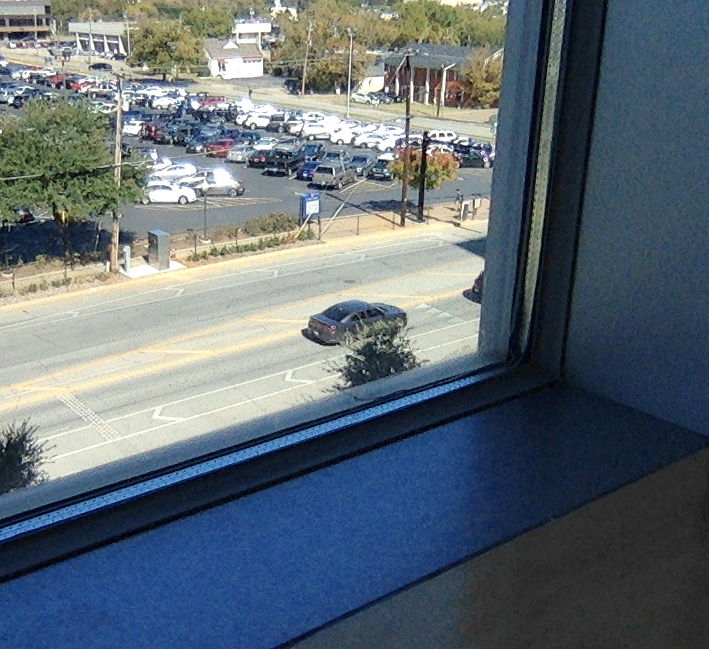car: (300, 300, 409, 349)
